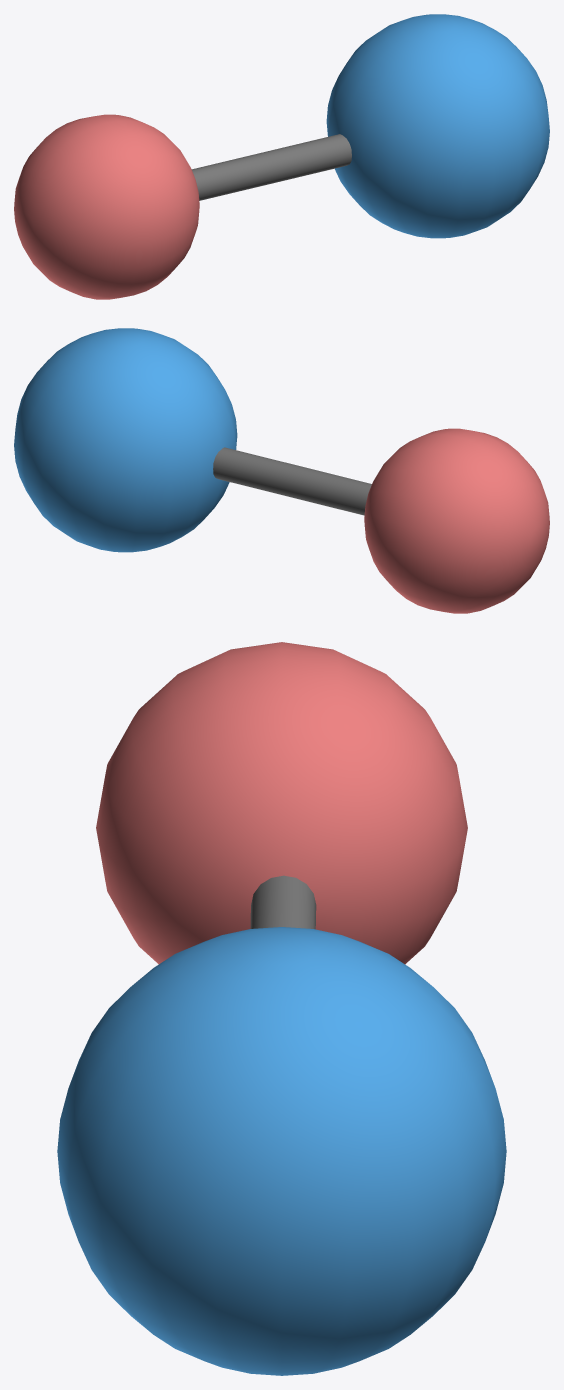
Rendered from NaF.fbx.
3 views of the same model, one above another, from view 1: azimuth 30°, elevation 25°; view 2: azimuth 150°, elevation 25°; view 3: azimuth 270°, elevation 25° (orthographic). The views are drawn at different scales.
Visible parts, largest first — view 1: NaF; view 2: NaF; view 3: NaF.
Part boxes in pixels (x1,y1,x2,y2): NaF: [14, 14, 549, 299]; NaF: [14, 328, 549, 613]; NaF: [57, 642, 506, 1375].
Size of the model in its own units: 5.84 by 2.23 by 2.23.
